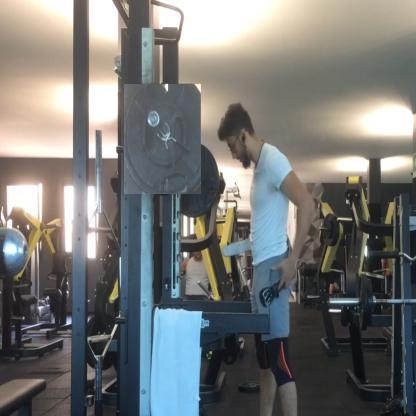barbell: (125, 85, 203, 196)
